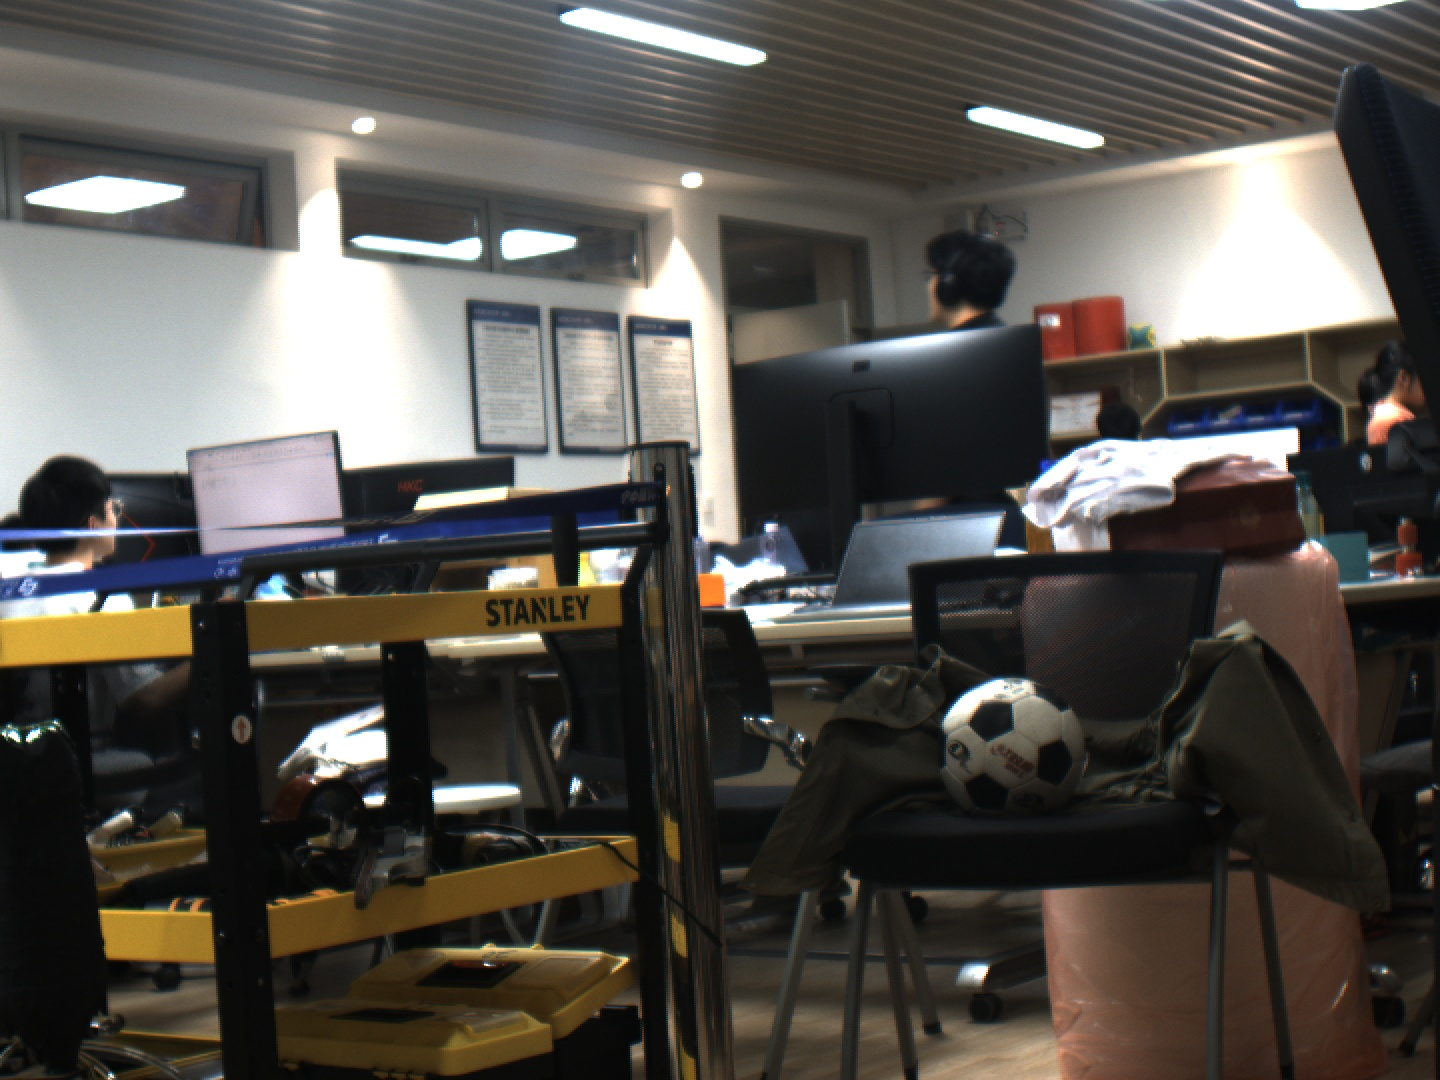ball: (938, 676, 1084, 819)
